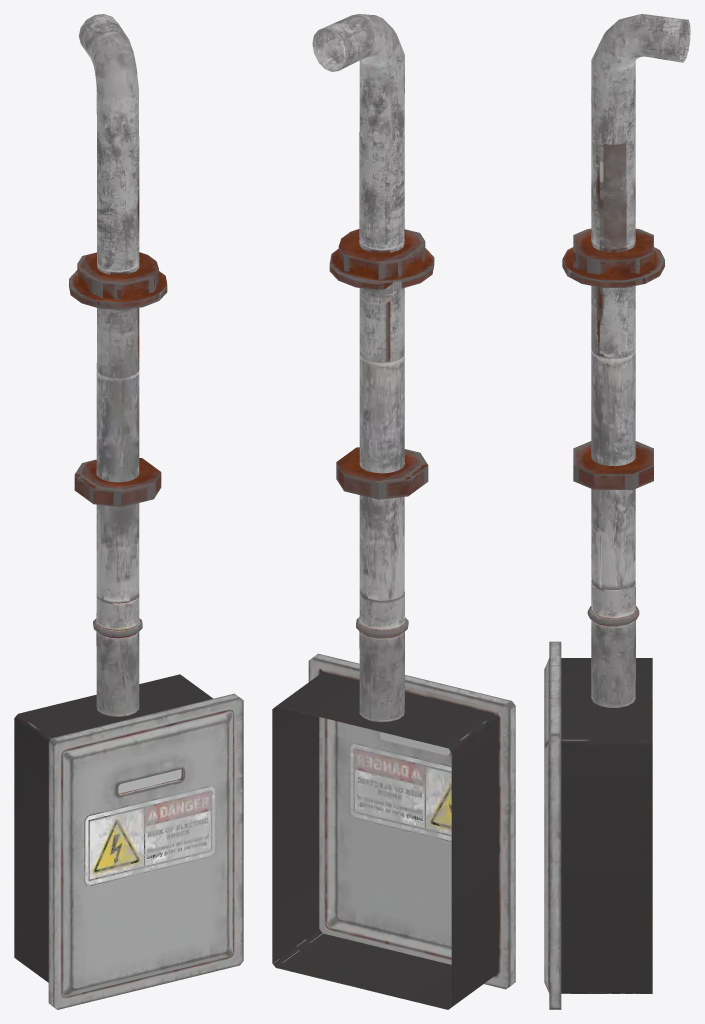
Rendered from item_fusebox.glb.
3 views of the same model, side by side, from view 1: azimuth 30°, elevation 25°; view 2: azimuth 150°, elevation 25°; view 3: azimuth 270°, elevation 25° (orthographic). The views are drawn at different scales.
Parts seen in each view (by area): view 1: Fuse_Box; view 2: Fuse_Box; view 3: Fuse_Box.
Boxes of the visible parts, x1,y1,x2,y2 form: Fuse_Box: (14, 14, 243, 1009); Fuse_Box: (272, 14, 515, 1009); Fuse_Box: (544, 14, 690, 1009).
Bounding box in the file's own units: 0.437 × 2.03 × 0.2835.
1 material, 1 textured.
